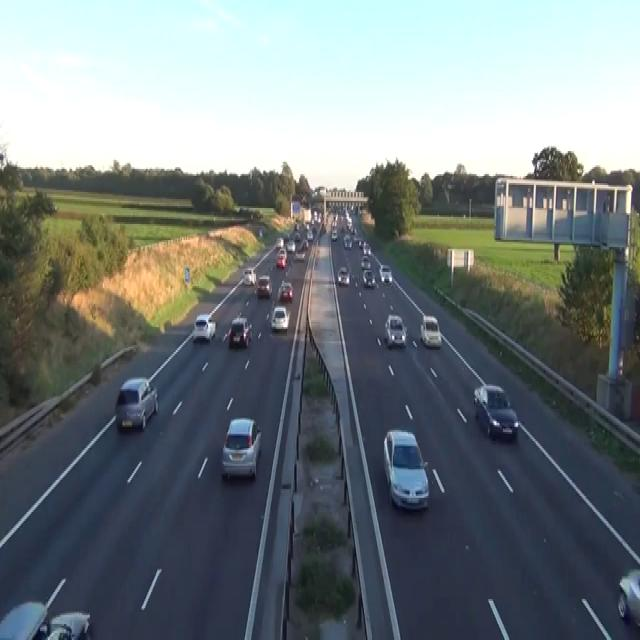Car: (0, 576, 90, 638), (383, 428, 429, 511), (220, 416, 261, 480), (473, 384, 519, 441), (114, 377, 158, 430), (0, 599, 50, 638), (617, 567, 639, 628), (46, 610, 90, 638), (384, 313, 407, 348), (228, 316, 251, 348), (420, 313, 441, 348), (192, 313, 216, 341), (270, 306, 290, 330), (42, 624, 72, 638), (237, 314, 252, 340), (256, 274, 272, 297), (277, 281, 293, 300), (362, 268, 376, 288), (379, 263, 392, 283), (276, 247, 287, 269), (337, 265, 349, 284), (242, 268, 255, 284), (48, 199, 58, 212), (343, 235, 352, 249), (362, 240, 371, 254), (361, 256, 371, 268), (258, 224, 268, 236), (286, 240, 295, 252), (295, 249, 305, 259), (300, 238, 308, 249), (346, 215, 352, 228), (331, 229, 338, 240), (306, 229, 313, 240), (275, 237, 283, 246), (294, 231, 300, 242), (283, 233, 289, 242), (358, 238, 362, 247), (259, 228, 262, 236)
